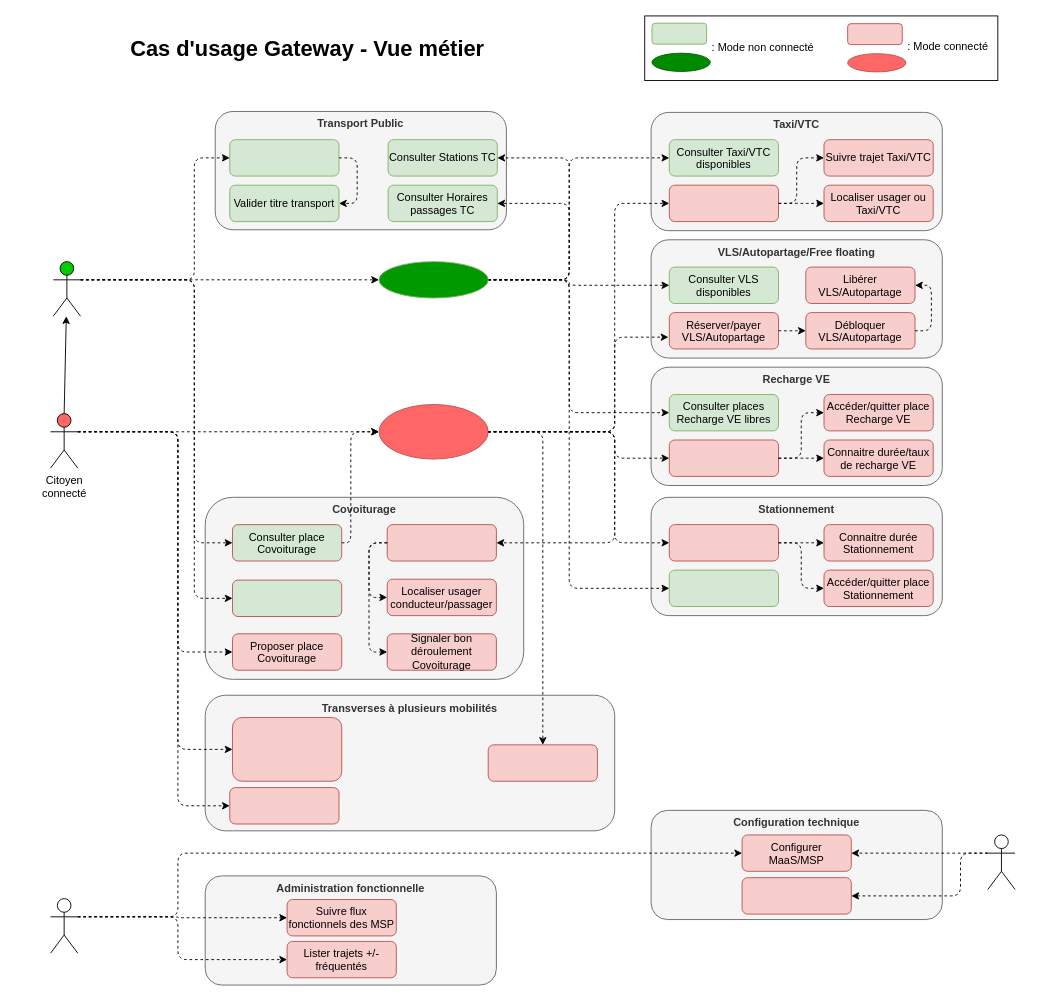
The diagram is 1056 pixels wide and 1002 high, and some of its shapes have lost their labels. The centre of each missing label's shape, as x and y in pixels:
Acheter titre transport: (x=284, y=157)
Administrateur AOM connecté: (x=64, y=925)
Citoyen: (x=66, y=288)
Consulter alertes événements perturbateurs du trajet: (x=287, y=749)
Consulter données consommation: (x=284, y=805)
Consulter places Stationnements libres: (x=723, y=588)
Consulter zones départ/arrivée Covoiturage: (x=287, y=598)
Exploitant plateforme HUB: (x=1001, y=862)
Facturer automatiquement: (x=542, y=762)
Rechercher informations: (x=433, y=279)
Réserver/Acheter/ Payer/Utiliser/ Consommer: (x=433, y=431)
Réserver/payer place Covoiturage: (x=441, y=542)
Réserver/payer place Recharge VE: (x=723, y=457)
Réserver/payer place Stationnement: (x=723, y=542)
Réserver/payer Taxi/VTC: (x=723, y=203)
Suivre flux techniques HUB: (x=796, y=895)
